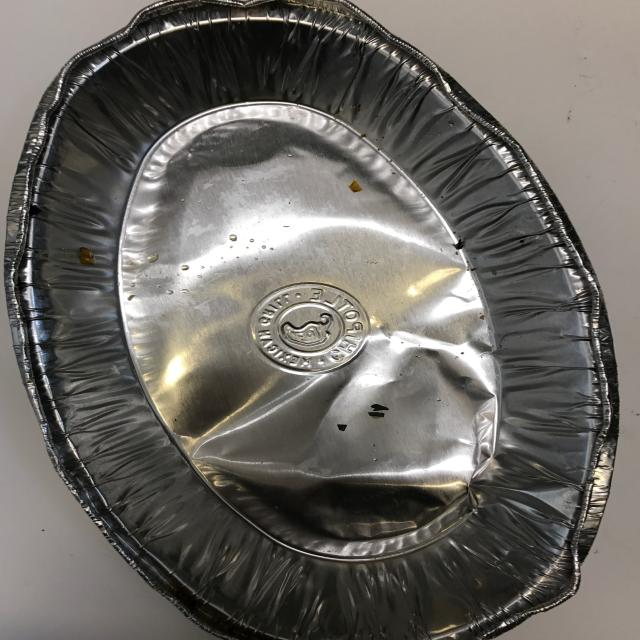metal: (3, 0, 621, 640)
